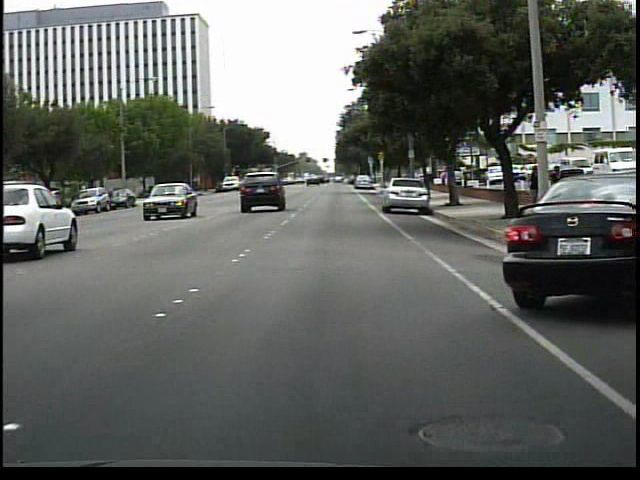person: (526, 160, 548, 220), (546, 158, 568, 211)
